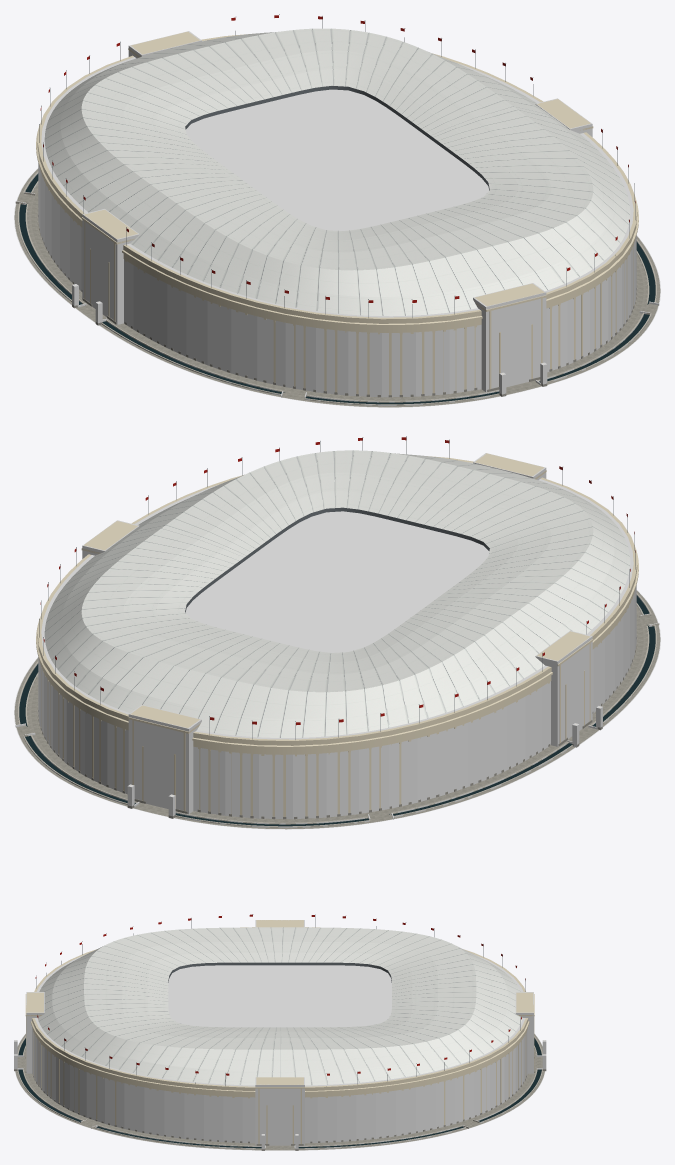
Rendered from gongti.glb.
The picture shows the model from 3 angles, top to bottom: view 1: azimuth 30°, elevation 25°; view 2: azimuth 150°, elevation 25°; view 3: azimuth 270°, elevation 25°; orthographic projection. The views are drawn at different scales.
Visible parts, largest first — view 1: Canopy, COL_stadium, Moat, Massing, COL_gate270, Stadium, COL_gate180, COLMESH_moat, CLEAR_plaza, Gate270, Gate180; view 2: Canopy, COL_stadium, Moat, Massing, COL_gate90, Stadium, COL_gate180, COLMESH_moat, CLEAR_plaza, Gate90, Gate180; view 3: Canopy, COL_stadium, Moat, Massing, Stadium, COL_gate0, COLMESH_moat, Gate0, CLEAR_plaza, COL_gate270, COL_gate90.
Part boxes in pixels (box(x1,y1,x2,y2)): Canopy: box(44, 28, 630, 316); COL_stadium: box(38, 40, 636, 397); Moat: box(14, 169, 660, 407); Massing: box(22, 28, 653, 399); COL_gate270: box(473, 283, 546, 392); Stadium: box(36, 123, 638, 332); COL_gate180: box(82, 209, 139, 324); COLMESH_moat: box(16, 172, 659, 405); CLEAR_plaza: box(14, 168, 660, 407); Gate270: box(475, 284, 546, 391); Gate180: box(81, 210, 137, 324); Canopy: box(44, 450, 630, 737); COL_stadium: box(38, 462, 636, 819); Moat: box(14, 591, 660, 829); Massing: box(22, 450, 652, 821); COL_gate90: box(128, 705, 201, 813); Stadium: box(36, 547, 638, 754); COL_gate180: box(535, 630, 592, 746); COLMESH_moat: box(15, 594, 658, 827); CLEAR_plaza: box(14, 590, 660, 829); Gate90: box(128, 706, 200, 813); Gate180: box(538, 631, 593, 745); Canopy: box(37, 927, 522, 1085); COL_stadium: box(32, 954, 527, 1143); Moat: box(15, 1034, 544, 1150); Massing: box(27, 920, 533, 1125); Stadium: box(30, 1021, 529, 1097); COL_gate0: box(255, 1077, 304, 1145); COLMESH_moat: box(17, 1052, 542, 1149); Gate0: box(255, 1077, 304, 1145); CLEAR_plaza: box(15, 1033, 545, 1150); COL_gate270: box(26, 992, 44, 1073); COL_gate90: box(515, 992, 533, 1073).
Bounding box in the file's own units: 229 × 46 × 358.
18 materials, 8 textured.
